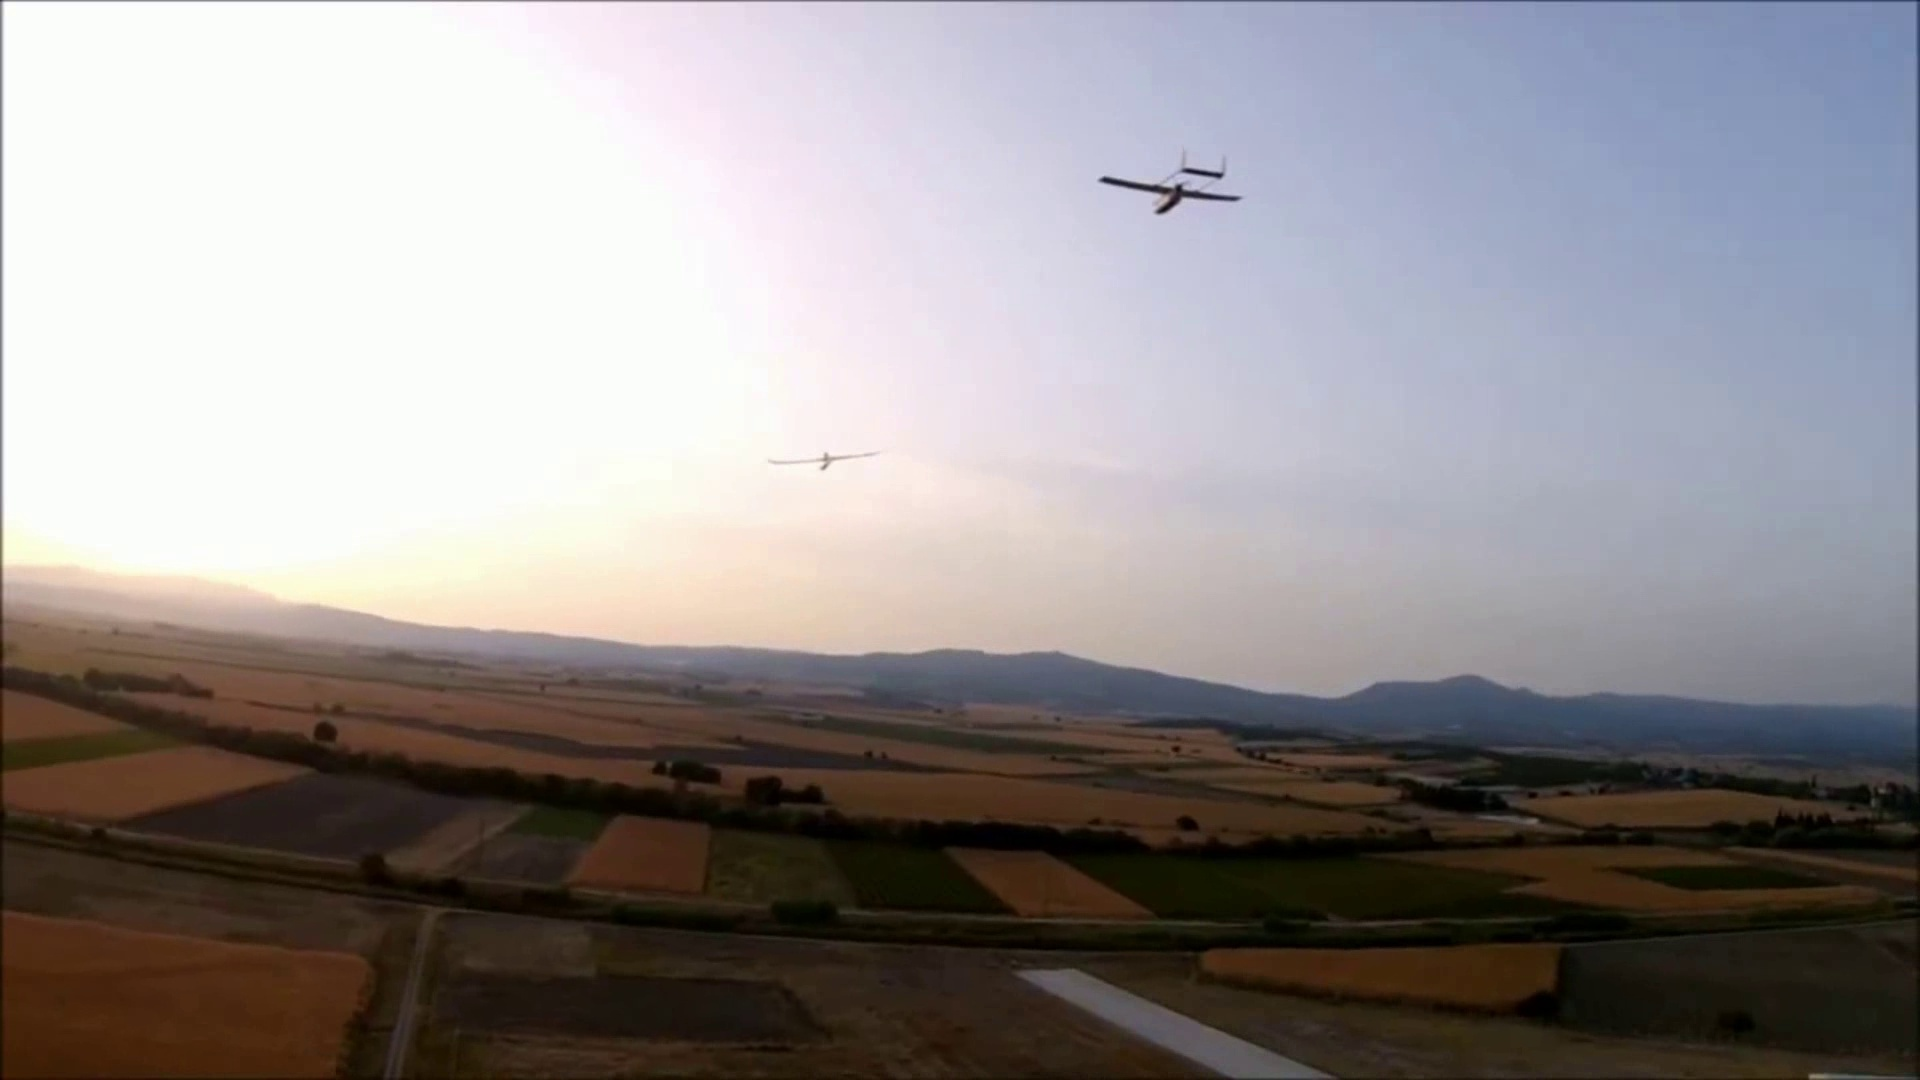airplane: (1095, 147, 1244, 214)
